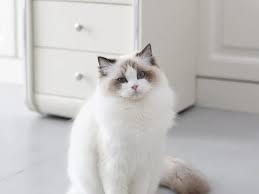ragdoll: (91, 37, 171, 112)
